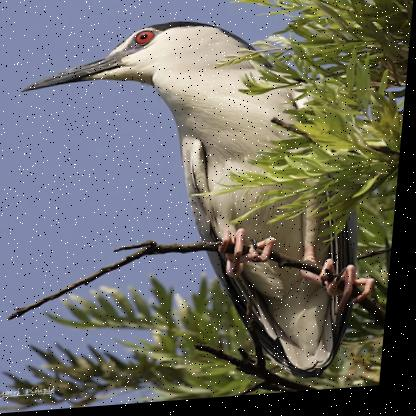Burung: (1, 13, 398, 403)
